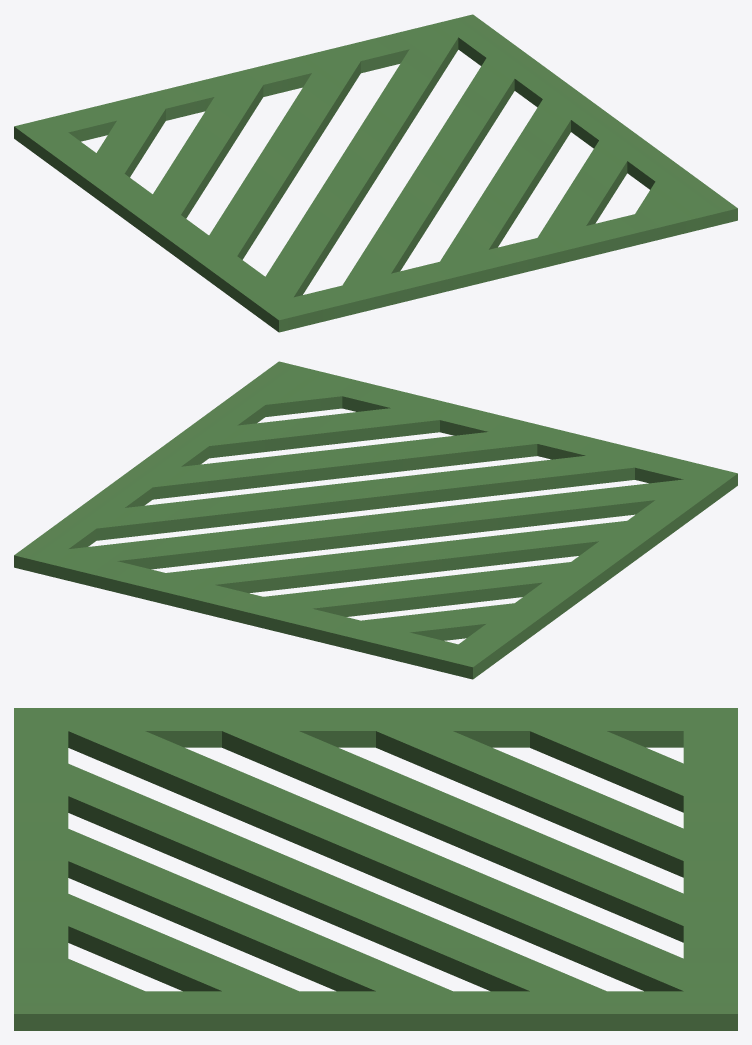
File: Mesh_CellGreen.fbx
The picture shows the model from 3 angles, top to bottom: view 1: azimuth 30°, elevation 25°; view 2: azimuth 150°, elevation 25°; view 3: azimuth 270°, elevation 25°; orthographic projection. The views are drawn at different scales.
Visible parts, largest first — view 1: grilla.bien; view 2: grilla.bien; view 3: grilla.bien.
Part boxes in pixels (x1,y1,x2,y2): grilla.bien: [14, 14, 737, 332]; grilla.bien: [14, 361, 737, 679]; grilla.bien: [14, 708, 737, 1030].
Size of the model in its own units: 100 by 100 by 2.55.
